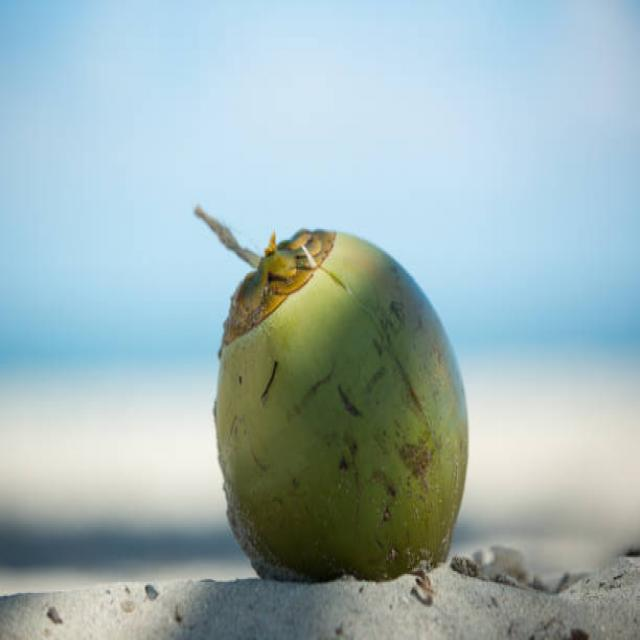coconut: (215, 220, 471, 581)
